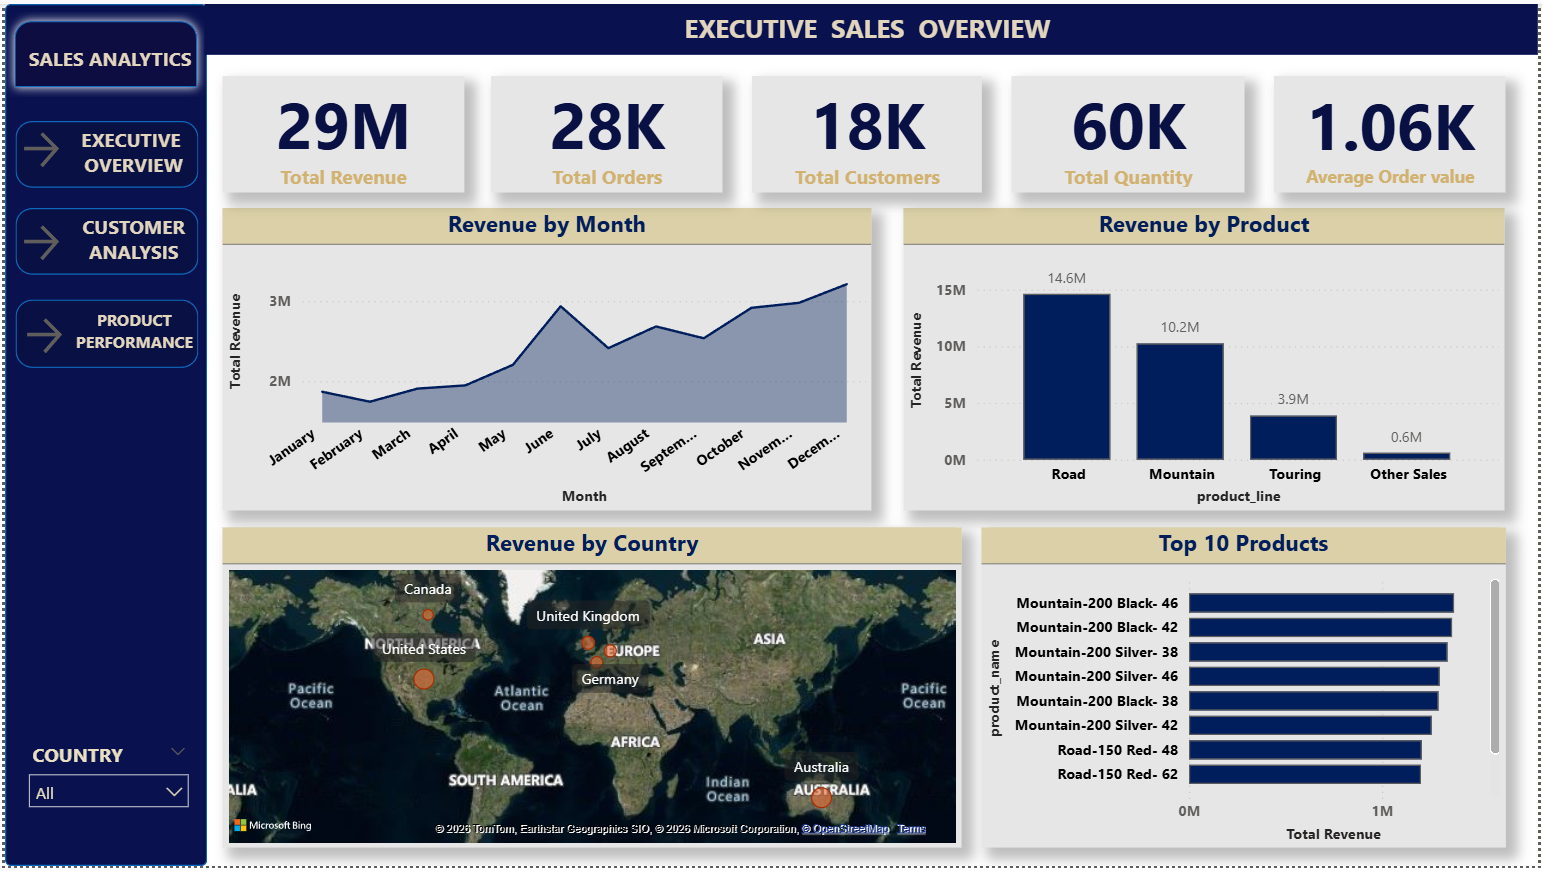

The page's visual inventory and layout, read from the dashboard file:
{"tool":"powerbi","page":{"name":"Executive Overview","canvas":[1280,720],"ordinal":0},"visuals":[{"type":"shape","box":[0,0,168.9,720],"z":0},{"type":"actionButton","box":[10.1,101.4,39.1,40.6],"z":0,"group":"g2"},{"type":"shape","box":[8.6,97.1,152.9,55.7],"z":1000},{"type":"actionButton","box":[10.1,179.7,39.1,40.6],"z":1000,"group":"g2"},{"type":"shape","box":[8.6,170,152.9,55.7],"z":2000},{"type":"actionButton","box":[13,256.5,39.1,40.6],"z":2000,"group":"g2"},{"type":"shape","box":[8.6,247.1,152.9,57.1],"z":3000},{"type":"textbox","box":[53.6,97.1,107.2,55.1],"z":4000},{"type":"shape","box":[0,6.8,168.5,71.2],"z":5000},{"type":"card","fields":{"Values":["gold fact_sales.Total Revenue"]},"box":[181.1,60.4,201.7,97.4],"z":6000,"group":"g1"},{"type":"textbox","box":[53.6,169.6,107.2,55.1],"z":6000},{"type":"textbox","box":[12.3,28.8,150.7,63],"z":7000},{"type":"card","fields":{"Values":["gold fact_sales.Total Orders"]},"box":[404.8,60.4,193.5,97.4],"z":7000,"group":"g1"},{"type":"card","fields":{"Values":["gold fact_sales.Total Customers"]},"box":[623,60.4,192.1,97.4],"z":8000,"group":"g1"},{"type":"lineChart","title":"Revenue by Month","fields":{"Y":["gold fact_sales.Total Revenue"],"Category":["gold fact_sales.order_date.Variation.Date Hierarchy.Month"]},"box":[181.1,170.2,542.1,252.5],"z":8000},{"type":"card","fields":{"Values":["gold fact_sales.Total Quantity"]},"box":[839.8,60.4,194.9,97.4],"z":9000,"group":"g1"},{"type":"columnChart","title":"Revenue by Product","fields":{"Y":["gold fact_sales.Total Revenue"],"Category":["gold dim_products.product_line"]},"box":[750.7,170.2,502.3,252.5],"z":9000},{"type":"card","fields":{"Values":["gold fact_sales.Average Order value"]},"box":[1059.4,60.4,193.5,97.4],"z":10000,"group":"g1"},{"type":"map","title":"Revenue by Country","fields":{"Category":["gold dim_customers.country"],"Size":["gold fact_sales.Total Revenue"]},"box":[181.1,437.8,617.5,267.6],"z":10000},{"type":"barChart","title":"Top 10 Products","fields":{"Category":["gold dim_products.product_name"],"Y":["gold fact_sales.Total Revenue"]},"box":[815.2,437.8,437.8,267.6],"z":11000},{"type":"shape","box":[167.1,0,1113.7,42.5],"z":12000},{"type":"group","id":"g1","title":"Group 2","box":[181.1,60.4,1071.8,97.4],"z":13000},{"type":"textbox","box":[563,0,352.1,42.5],"z":14000},{"type":"slicer","fields":{"Values":["gold dim_products.product_line"]},"box":[10.1,610.1,153.6,72.5],"z":15000},{"type":"group","id":"g2","title":"Group 1","box":[10.1,101.4,42,195.7],"z":16000},{"type":"textbox","box":[50.7,249.3,115.9,55.1],"z":17000}]}

Visuals, with their boxes on the page's 1280x720 design canvas (x1, y1, x2, y2). These are canvas units, not pixel positions in the 1542x871 screenshot, which may show the page scaled, cropped or inside an application window:
shape: locate(0, 0, 169, 720)
actionButton: locate(10, 101, 49, 142)
shape: locate(9, 97, 162, 153)
actionButton: locate(10, 180, 49, 220)
shape: locate(9, 170, 162, 226)
actionButton: locate(13, 256, 52, 297)
shape: locate(9, 247, 162, 304)
textbox: locate(54, 97, 161, 152)
shape: locate(0, 7, 168, 78)
card - gold fact_sales.Total Revenue: locate(181, 60, 383, 158)
textbox: locate(54, 170, 161, 225)
textbox: locate(12, 29, 163, 92)
card - gold fact_sales.Total Orders: locate(405, 60, 598, 158)
card - gold fact_sales.Total Customers: locate(623, 60, 815, 158)
"Revenue by Month" lineChart: locate(181, 170, 723, 423)
card - gold fact_sales.Total Quantity: locate(840, 60, 1035, 158)
"Revenue by Product" columnChart: locate(751, 170, 1253, 423)
card - gold fact_sales.Average Order value: locate(1059, 60, 1253, 158)
"Revenue by Country" map: locate(181, 438, 799, 705)
"Top 10 Products" barChart: locate(815, 438, 1253, 705)
shape: locate(167, 0, 1281, 42)
"Group 2" group: locate(181, 60, 1253, 158)
textbox: locate(563, 0, 915, 42)
slicer - gold dim_products.product_line: locate(10, 610, 164, 683)
"Group 1" group: locate(10, 101, 52, 297)
textbox: locate(51, 249, 167, 304)
